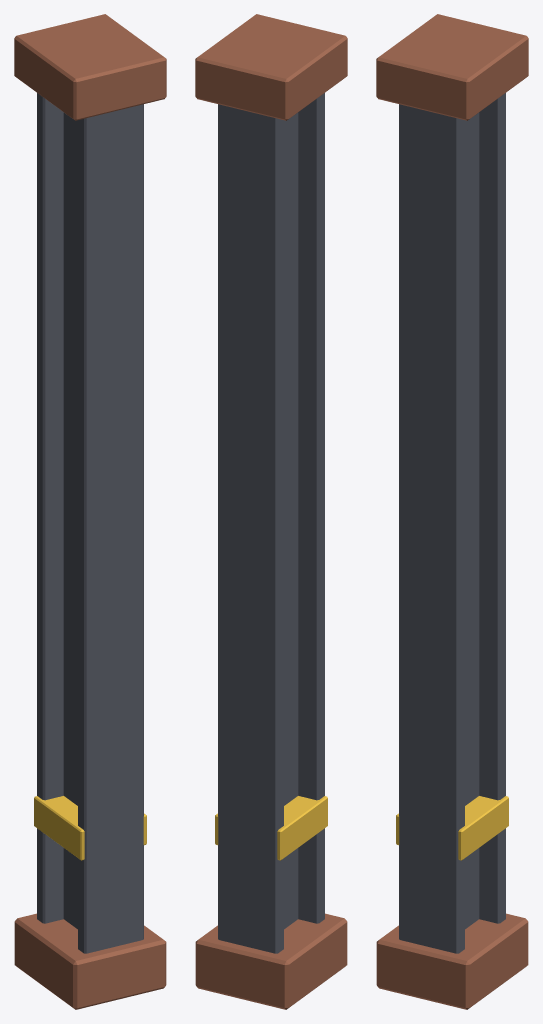
The model's file is fosso_pilar_ibeam.glb.
3 views of the same model, side by side, from view 1: azimuth 30°, elevation 25°; view 2: azimuth 150°, elevation 25°; view 3: azimuth 330°, elevation 25° (orthographic).
Visible parts, largest first — view 1: IBeam_FlangeF, IBeam_FlangeB, IBeam_Cap, IBeam_Web, IBeam_Foot, IBeam_Hazard; view 2: IBeam_FlangeB, IBeam_FlangeF, IBeam_Cap, IBeam_Web, IBeam_Foot, IBeam_Hazard; view 3: IBeam_FlangeF, IBeam_FlangeB, IBeam_Cap, IBeam_Web, IBeam_Foot, IBeam_Hazard.
Boxes of the visible parts, x1,y1,x2,y2 form: IBeam_FlangeF: (78, 104, 143, 953); IBeam_FlangeB: (37, 93, 63, 923); IBeam_Cap: (14, 14, 166, 120); IBeam_Web: (63, 112, 77, 929); IBeam_Foot: (14, 913, 166, 1009); IBeam_Hazard: (34, 796, 146, 860); IBeam_FlangeB: (218, 104, 283, 953); IBeam_FlangeF: (298, 93, 324, 923); IBeam_Cap: (195, 14, 347, 120); IBeam_Web: (284, 112, 298, 929); IBeam_Foot: (195, 913, 347, 1009); IBeam_Hazard: (215, 796, 327, 860); IBeam_FlangeF: (399, 104, 464, 953); IBeam_FlangeB: (479, 93, 505, 923); IBeam_Cap: (376, 14, 528, 120); IBeam_Web: (465, 112, 479, 929); IBeam_Foot: (376, 913, 528, 1009); IBeam_Hazard: (396, 796, 508, 860).
Bounding box in the file's own units: 0.84 × 8 × 0.96.
